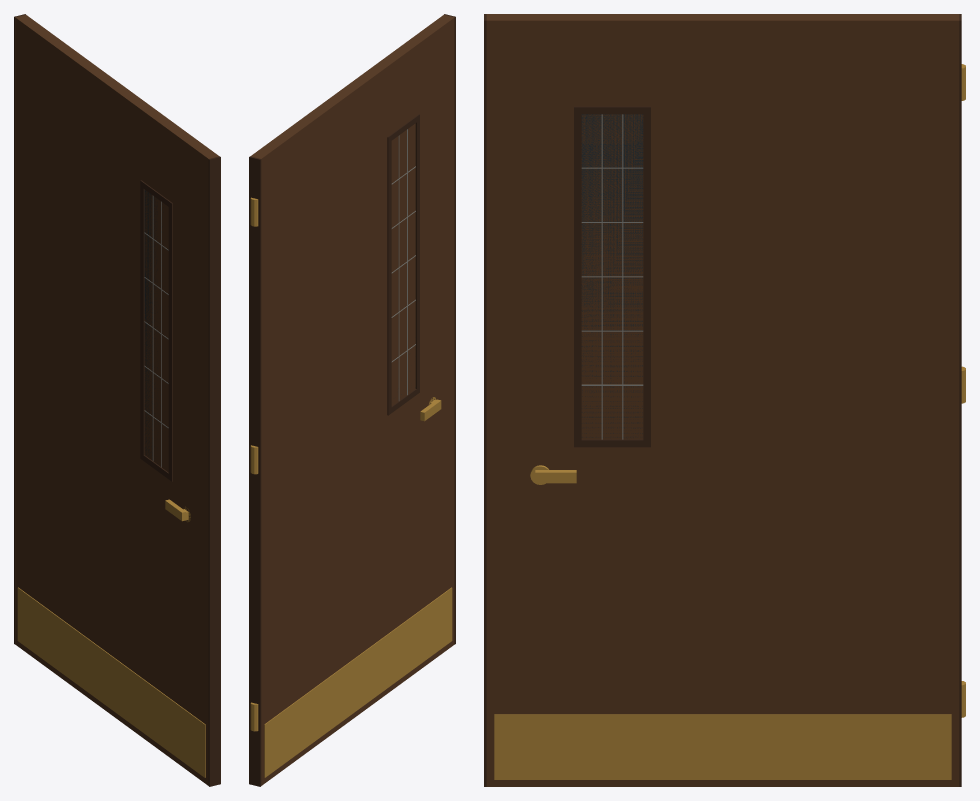
Rendered from SM_80s_RoomDoor_186.glb.
3 views of the same model, side by side, from view 1: azimuth 30°, elevation 25°; view 2: azimuth 150°, elevation 25°; view 3: azimuth 270°, elevation 25° (orthographic). The views are drawn at different scales.
Visible parts, largest first — view 1: SM_80s_RoomDoor_186; view 2: SM_80s_RoomDoor_186; view 3: SM_80s_RoomDoor_186.
Boxes of the visible parts, left/top/right/bottom form: SM_80s_RoomDoor_186: left=14, top=14, right=220, bottom=786; SM_80s_RoomDoor_186: left=249, top=14, right=455, bottom=786; SM_80s_RoomDoor_186: left=484, top=14, right=965, bottom=786.
Bounding box in the file's own units: 0.134 × 3.29 × 1.88.
